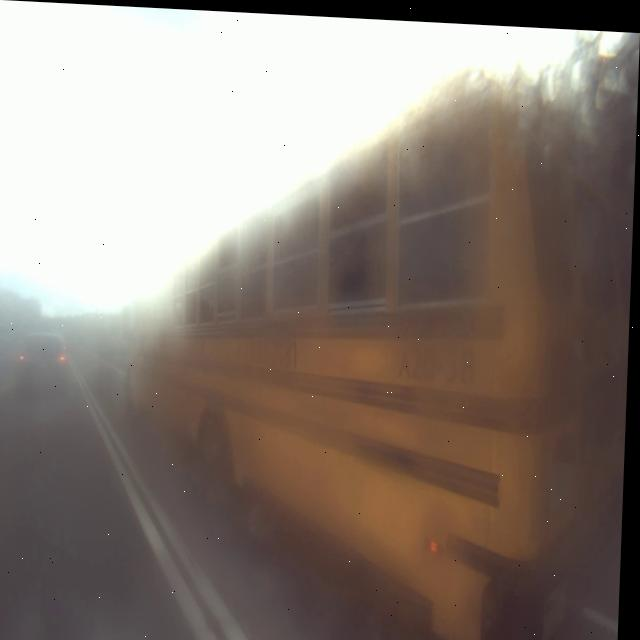car: (12, 314, 80, 406)
